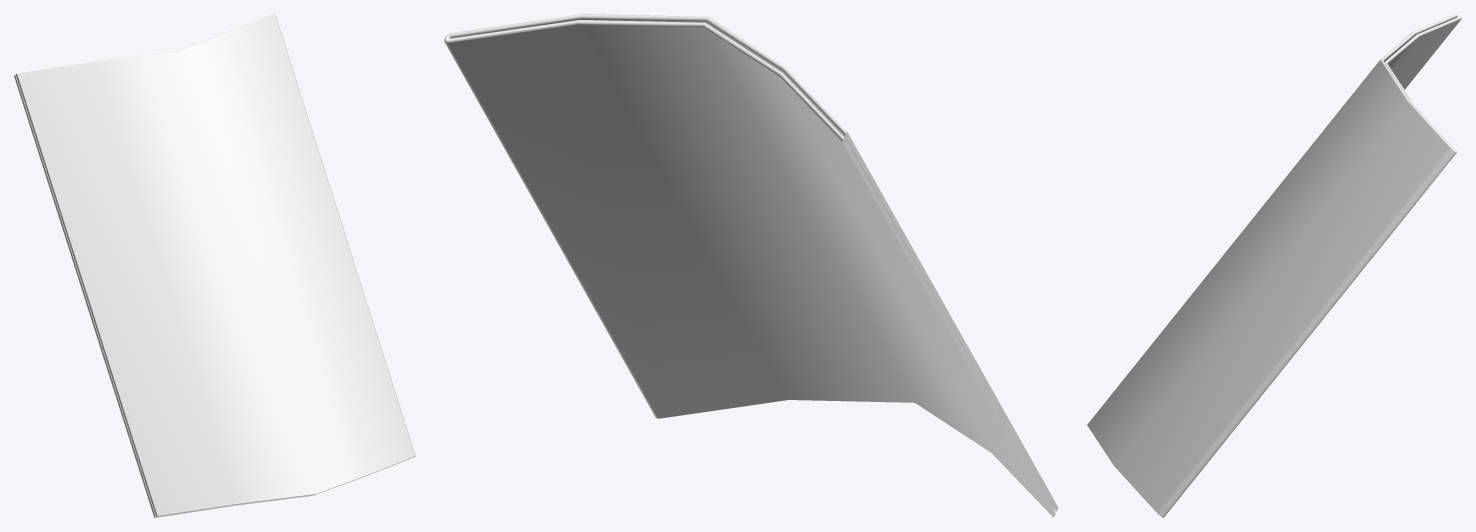
The model's file is Deformed_Bandage_Pad.fbx.
3 views of the same model, side by side, from view 1: azimuth 30°, elevation 25°; view 2: azimuth 150°, elevation 25°; view 3: azimuth 270°, elevation 25° (orthographic). The views are drawn at different scales.
Parts seen in each view (by area): view 1: Deformed Bandage Pad; view 2: Deformed Bandage Pad; view 3: Deformed Bandage Pad.
Part boxes in pixels (left/top/right/bottom): Deformed Bandage Pad: left=14, top=14, right=415, bottom=517; Deformed Bandage Pad: left=444, top=14, right=1058, bottom=517; Deformed Bandage Pad: left=1087, top=14, right=1461, bottom=517.
Size of the model in its own units: 4.11 by 5.49 by 4.81.
